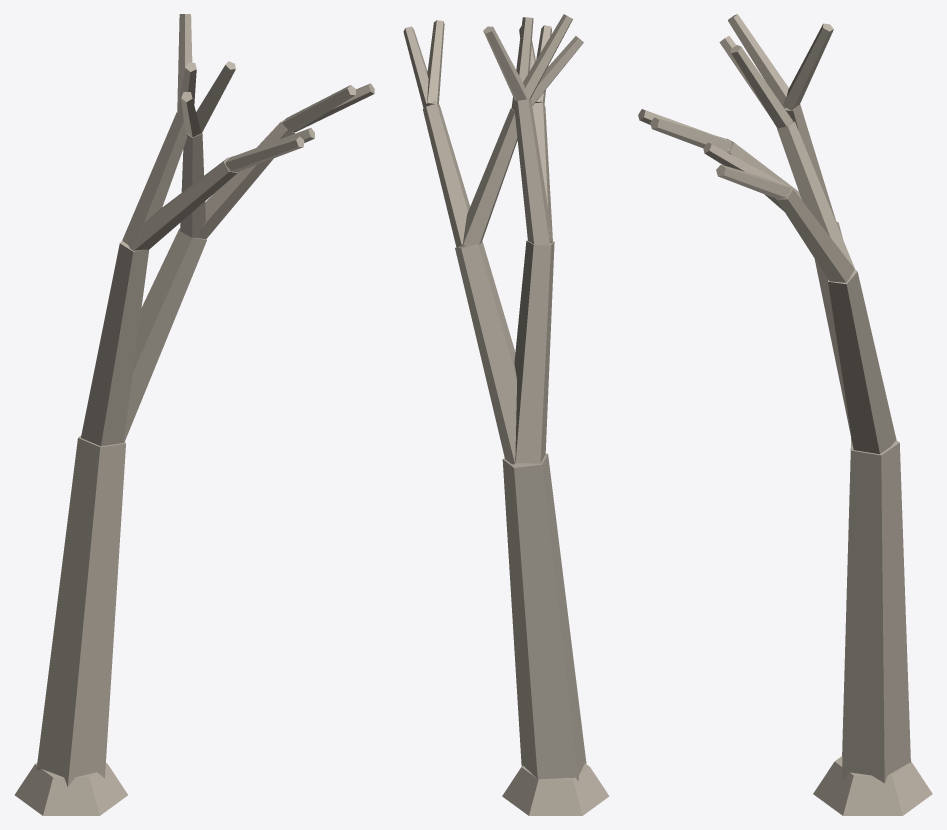
File: SM_Dead_Tree.glb
3 views of the same model, side by side, from view 1: azimuth 30°, elevation 25°; view 2: azimuth 150°, elevation 25°; view 3: azimuth 270°, elevation 25° (orthographic). The views are drawn at different scales.
Parts seen in each view (by area): view 1: SM_Dead_Tree; view 2: SM_Dead_Tree; view 3: SM_Dead_Tree.
Boxes of the visible parts, x1,y1,x2,y2 form: SM_Dead_Tree: (14,14,374,815); SM_Dead_Tree: (403,14,609,815); SM_Dead_Tree: (638,14,932,815).
Bounding box in the file's own units: 1.39 × 3.76 × 1.23.
